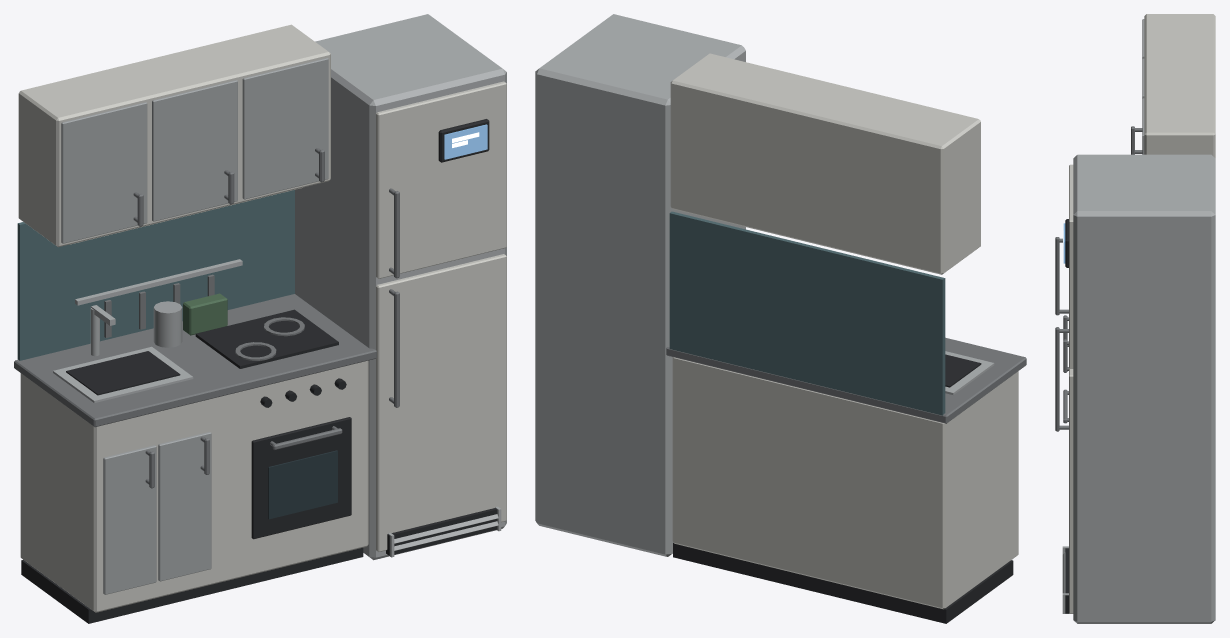
File: astro_galley_counter.fbx
3 views of the same model, side by side, from view 1: azimuth 30°, elevation 25°; view 2: azimuth 150°, elevation 25°; view 3: azimuth 270°, elevation 25° (orthographic). The views are drawn at different scales.
Visible parts, largest first — view 1: GalleyCounter_Body; view 2: GalleyCounter_Body; view 3: GalleyCounter_Body.
Part boxes in pixels (x1,y1,x2,y2): GalleyCounter_Body: (14,14,506,623); GalleyCounter_Body: (535,14,1026,623); GalleyCounter_Body: (1055,14,1215,623).
Bounding box in the file's own units: 303 × 335 × 113.
